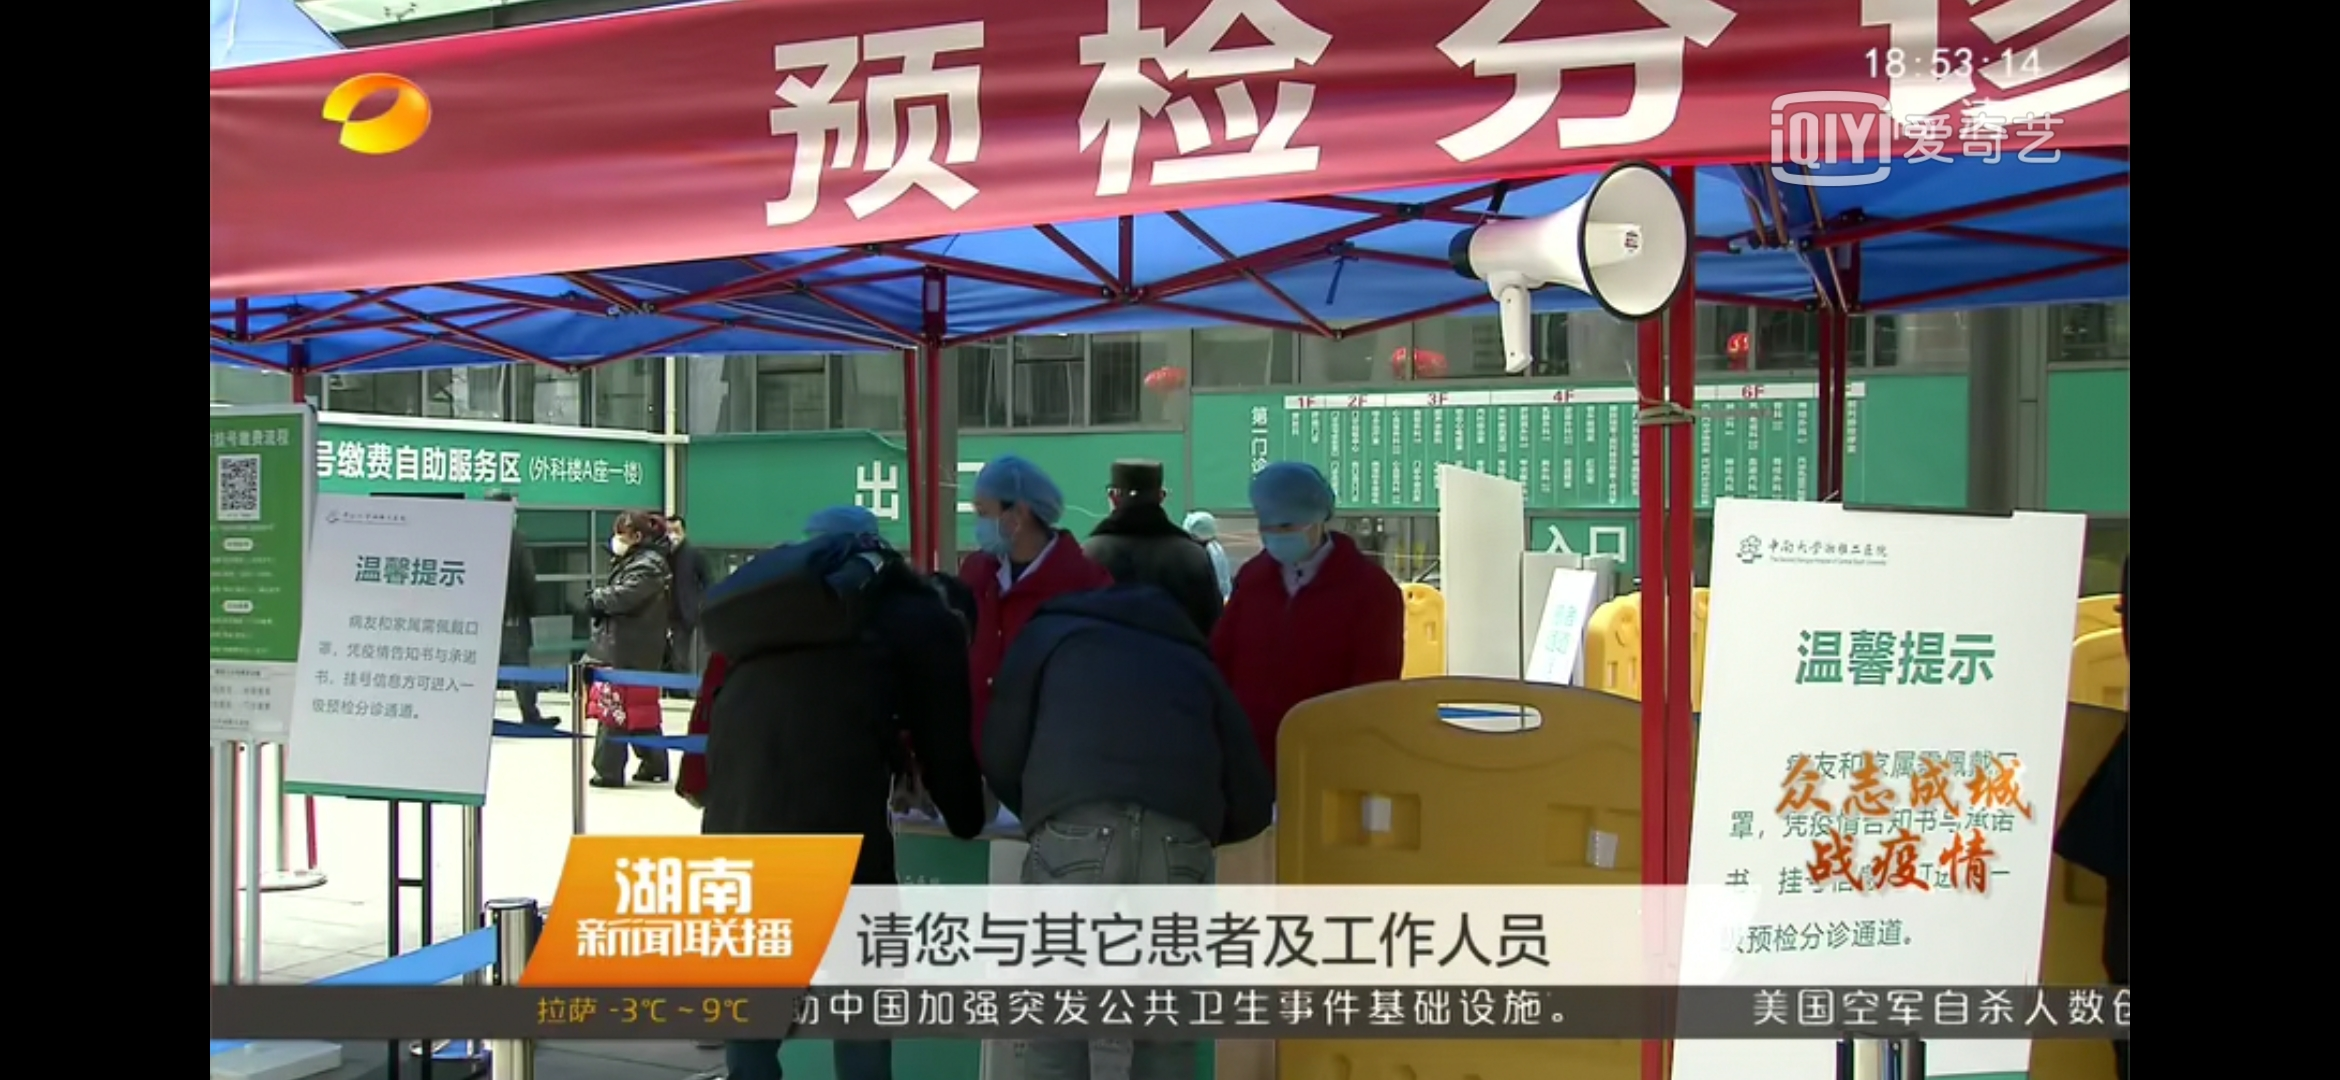correctlyWear: (970, 503, 1042, 565), (1263, 519, 1330, 570), (610, 516, 645, 559), (667, 519, 683, 547)
